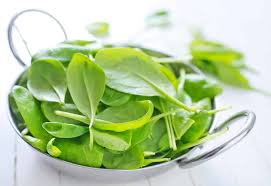spinach: (33, 57, 171, 142)
